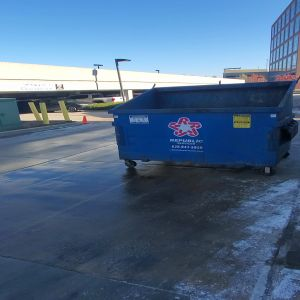Dumpster: (108, 82, 299, 177)
